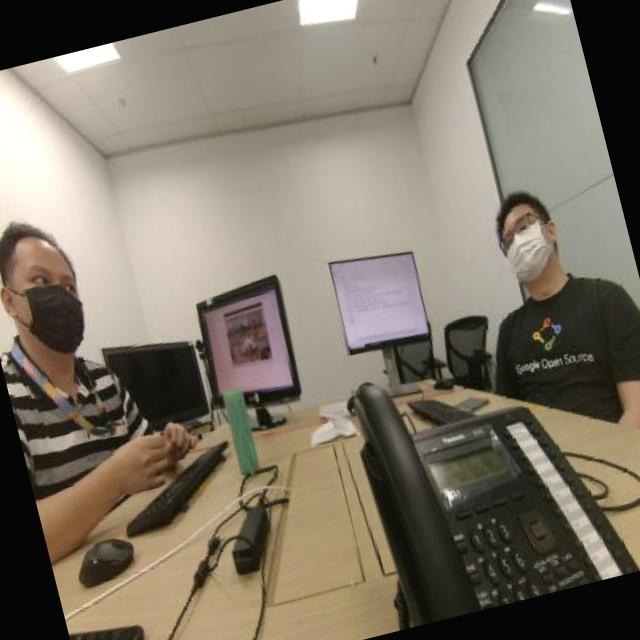Person: (455, 136, 640, 408), (0, 177, 147, 519)
